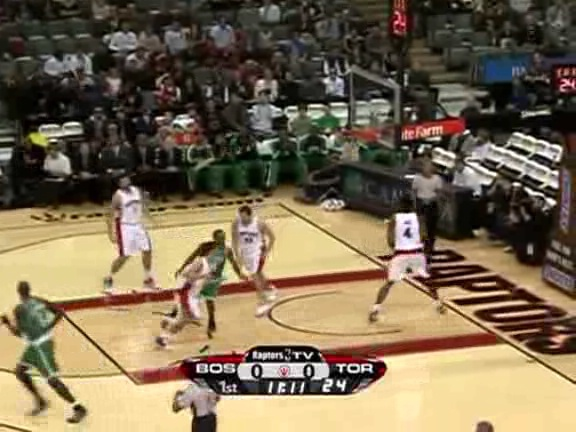person: (196, 230, 230, 311), (195, 230, 229, 311), (197, 230, 231, 311), (196, 229, 230, 310), (196, 231, 230, 312)
target_negative: (122, 243, 567, 327), (393, 299, 563, 427), (23, 350, 208, 417), (347, 178, 441, 295), (428, 165, 556, 224), (500, 360, 517, 411)
